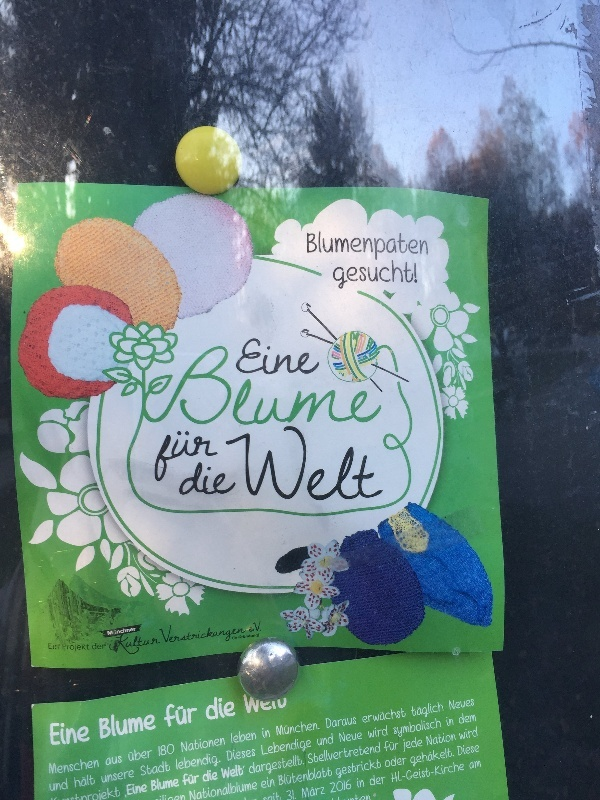text: (161, 347, 176, 431), (177, 347, 192, 431), (193, 347, 208, 431), (209, 347, 224, 431), (225, 347, 240, 431), (241, 347, 256, 431), (257, 347, 272, 431), (273, 347, 288, 431), (289, 347, 304, 431), (305, 347, 320, 431), (321, 347, 336, 431), (337, 347, 352, 431), (353, 347, 368, 431), (369, 347, 384, 431), (369, 425, 385, 503), (146, 347, 160, 431), (225, 425, 240, 503), (241, 425, 256, 503), (257, 425, 272, 503), (273, 425, 288, 503), (289, 425, 304, 503), (305, 425, 320, 503), (321, 425, 336, 503), (337, 425, 352, 503), (353, 425, 368, 503), (161, 430, 176, 482), (177, 430, 192, 482), (193, 430, 208, 482), (209, 430, 221, 482), (241, 338, 256, 376), (257, 338, 272, 376), (273, 338, 288, 376), (289, 338, 304, 376), (305, 338, 320, 376), (193, 459, 208, 495), (209, 459, 224, 495), (145, 629, 161, 658), (321, 232, 336, 262), (337, 232, 352, 262), (353, 232, 368, 262), (369, 232, 384, 262), (385, 232, 400, 262), (401, 232, 416, 262), (337, 260, 352, 290), (353, 260, 368, 290), (369, 260, 384, 290), (385, 260, 400, 290), (401, 260, 416, 290), (113, 711, 128, 741), (129, 711, 144, 741), (113, 629, 128, 658), (129, 629, 144, 658), (177, 701, 192, 730), (225, 459, 237, 495), (257, 688, 272, 716), (273, 688, 288, 716), (181, 459, 192, 495), (307, 232, 320, 262), (99, 711, 112, 741), (289, 755, 305, 779), (161, 622, 176, 647), (177, 622, 192, 647), (193, 622, 208, 647), (209, 622, 224, 647), (225, 622, 240, 647), (209, 697, 224, 722), (449, 762, 465, 785), (243, 688, 256, 716), (417, 232, 429, 262), (321, 743, 336, 767), (337, 743, 352, 767), (353, 743, 368, 767), (257, 755, 272, 779), (273, 755, 288, 779), (164, 701, 176, 730), (65, 724, 80, 747), (401, 762, 416, 785), (417, 762, 432, 785), (433, 762, 448, 785), (401, 717, 416, 740), (417, 717, 432, 740), (417, 702, 432, 725), (145, 711, 156, 741), (337, 760, 352, 782), (353, 760, 368, 782), (50, 724, 64, 747), (417, 748, 432, 769), (433, 748, 448, 769), (289, 767, 304, 788), (305, 767, 320, 788), (193, 779, 208, 800), (209, 779, 224, 800), (225, 779, 240, 800), (241, 779, 256, 800), (273, 737, 288, 757), (289, 737, 304, 757), (308, 743, 320, 767), (369, 743, 381, 767), (369, 760, 382, 782), (225, 697, 236, 722), (305, 721, 321, 738), (369, 708, 384, 726), (385, 708, 400, 726), (177, 754, 192, 772), (193, 754, 208, 772), (193, 736, 208, 754), (209, 736, 224, 754), (49, 758, 64, 776), (65, 758, 80, 776), (81, 758, 96, 776), (155, 430, 160, 482), (289, 721, 304, 738), (129, 783, 144, 800), (145, 762, 160, 779), (433, 702, 444, 725), (321, 767, 333, 788), (385, 754, 400, 770), (337, 780, 352, 796), (225, 765, 240, 781), (161, 778, 176, 794), (129, 748, 144, 764), (81, 774, 96, 790), (81, 724, 91, 747), (433, 732, 448, 747), (241, 731, 256, 746), (113, 771, 128, 786), (241, 749, 257, 763), (261, 737, 272, 757), (209, 754, 221, 772), (465, 743, 480, 757), (369, 726, 384, 740), (305, 786, 320, 800), (278, 767, 288, 788), (161, 744, 175, 759), (49, 779, 64, 793), (403, 738, 416, 754), (433, 717, 442, 740), (276, 721, 288, 738), (181, 736, 192, 754), (370, 774, 384, 788), (226, 749, 240, 763), (392, 762, 400, 785), (465, 727, 478, 741), (339, 731, 352, 745), (321, 735, 334, 749), (465, 710, 477, 725), (385, 742, 400, 754), (337, 719, 352, 731), (81, 788, 96, 800), (97, 788, 112, 800), (161, 762, 171, 779), (385, 347, 387, 431), (249, 755, 256, 779), (449, 699, 464, 710), (101, 771, 112, 786), (393, 717, 400, 740), (182, 773, 192, 789), (222, 425, 224, 503), (241, 622, 247, 647), (193, 701, 198, 730), (356, 779, 368, 791), (151, 778, 160, 794), (261, 777, 272, 790), (353, 731, 363, 745), (305, 737, 312, 757), (209, 770, 219, 784), (113, 627, 128, 636), (65, 643, 80, 652), (231, 731, 240, 746), (410, 748, 416, 769), (449, 748, 455, 769), (326, 719, 336, 731), (411, 702, 416, 725), (193, 773, 200, 789), (145, 748, 152, 764), (465, 699, 475, 710), (262, 729, 272, 740), (401, 708, 407, 726), (113, 756, 122, 768), (71, 788, 80, 800), (49, 643, 64, 650), (449, 732, 456, 747), (469, 761, 480, 770), (457, 743, 464, 757), (401, 754, 407, 770), (417, 738, 423, 754), (330, 780, 336, 796), (241, 765, 247, 781), (113, 788, 121, 800), (74, 774, 80, 790), (241, 633, 256, 639), (426, 732, 432, 747), (458, 710, 464, 725), (363, 708, 368, 726), (249, 620, 256, 632), (202, 770, 208, 784), (105, 756, 112, 768), (81, 643, 90, 652), (289, 790, 297, 800), (205, 697, 208, 722), (129, 771, 134, 786), (97, 758, 101, 776), (459, 727, 464, 741), (140, 762, 144, 779), (129, 627, 136, 636), (97, 643, 106, 650), (189, 779, 192, 800), (257, 620, 262, 632), (110, 629, 112, 658), (321, 786, 325, 800), (65, 779, 69, 793), (449, 716, 454, 727), (125, 783, 128, 800), (145, 783, 148, 800), (353, 719, 357, 731), (221, 765, 224, 781), (177, 778, 180, 794), (385, 726, 388, 740), (317, 735, 320, 749), (257, 779, 259, 800), (273, 777, 276, 790), (321, 338, 322, 376), (108, 627, 112, 636), (335, 260, 336, 290), (417, 260, 418, 290), (158, 744, 160, 759), (92, 643, 96, 650), (233, 636, 240, 640), (385, 774, 387, 788), (302, 786, 304, 800), (159, 622, 160, 647), (446, 716, 448, 727), (286, 790, 288, 800), (257, 633, 260, 639), (225, 736, 226, 754), (127, 748, 128, 764), (257, 731, 258, 746), (367, 726, 368, 740), (63, 643, 64, 652), (481, 761, 482, 770), (239, 633, 240, 639)
